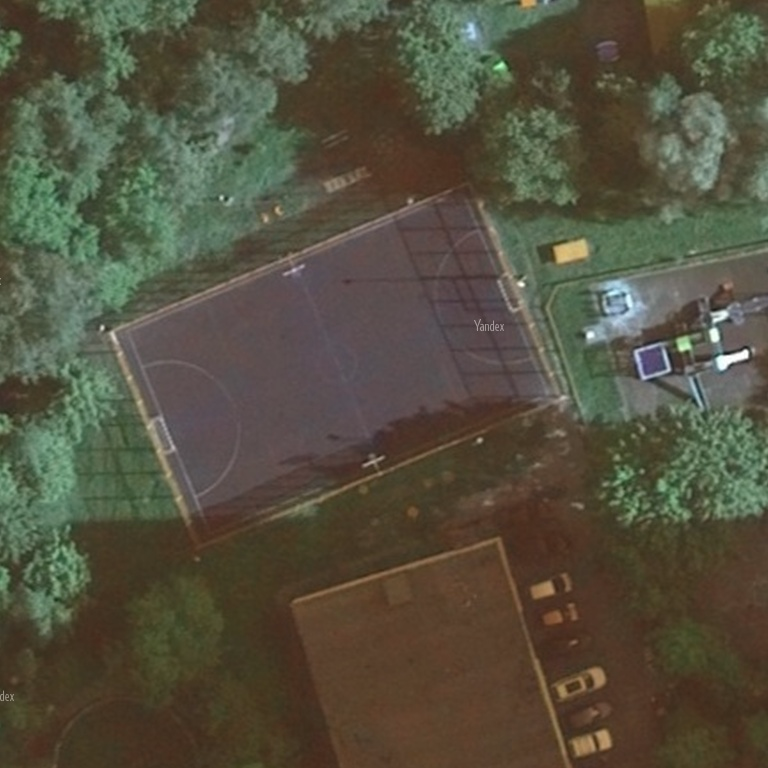basket_court: (205, 227, 456, 516)
